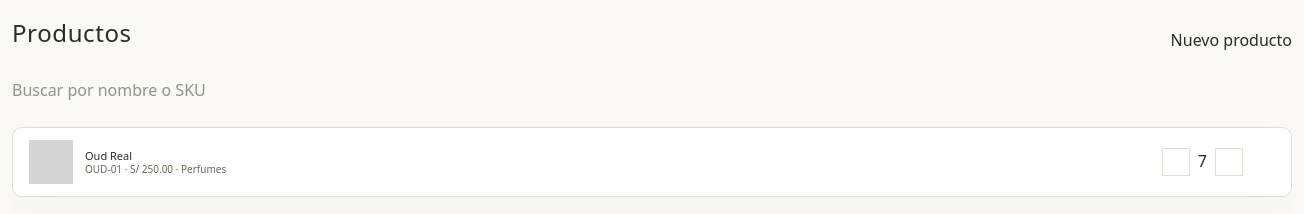
ProductAdminView: lista › filtra por nombre y avisa si no hay coincidencias
Type "oud" into the field labelled "Buscar por nombre o SKU". click: (652, 90)
box: x1=12 y1=78 x2=1292 y2=103
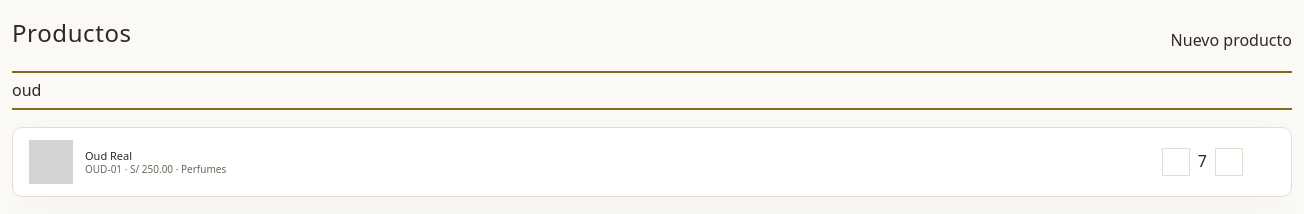
Check: the button with aria-label "Editar Oud Real" is shown, box x1=29 y1=140 x2=1146 y2=184
Replace the text in the field named "Buscar por nombre o SKU" with "zapatillas". click: (652, 90)
box: x1=12 y1=78 x2=1292 y2=103
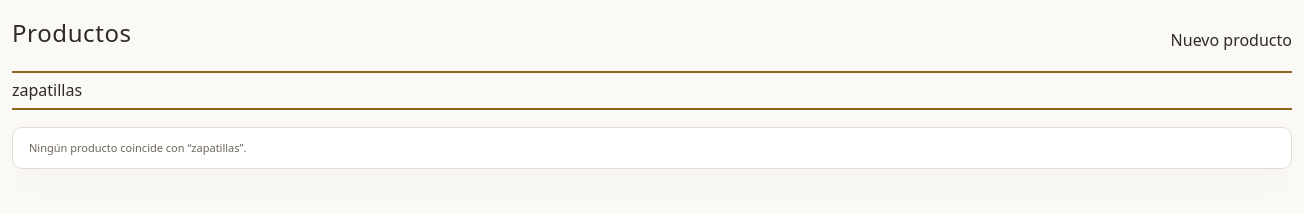
Check: the text "Ningún producto coincide con “zapatillas”." is shown, box x1=12 y1=127 x2=1292 y2=169
